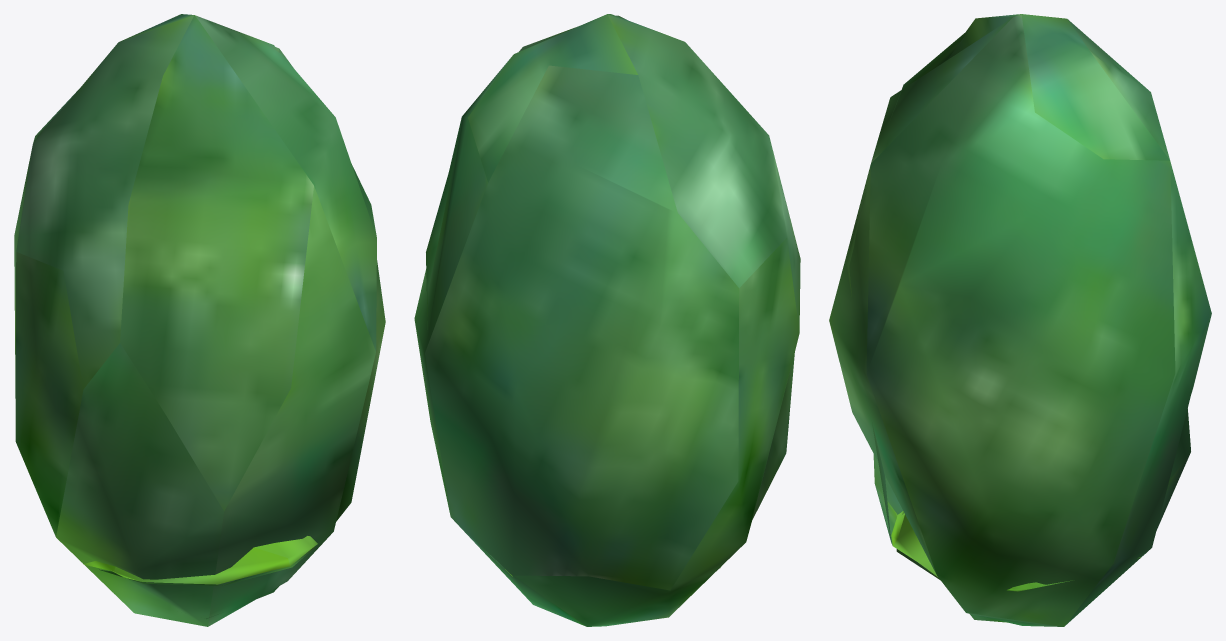
The model's file is katamari.glb.
The picture shows the model from 3 angles, left to right: view 1: azimuth 30°, elevation 25°; view 2: azimuth 150°, elevation 25°; view 3: azimuth 270°, elevation 25°; orthographic projection.
Size of the model in its own units: 0.5309 by 0.9929 by 0.5635.
Materials: 1 (1 with a texture image).
